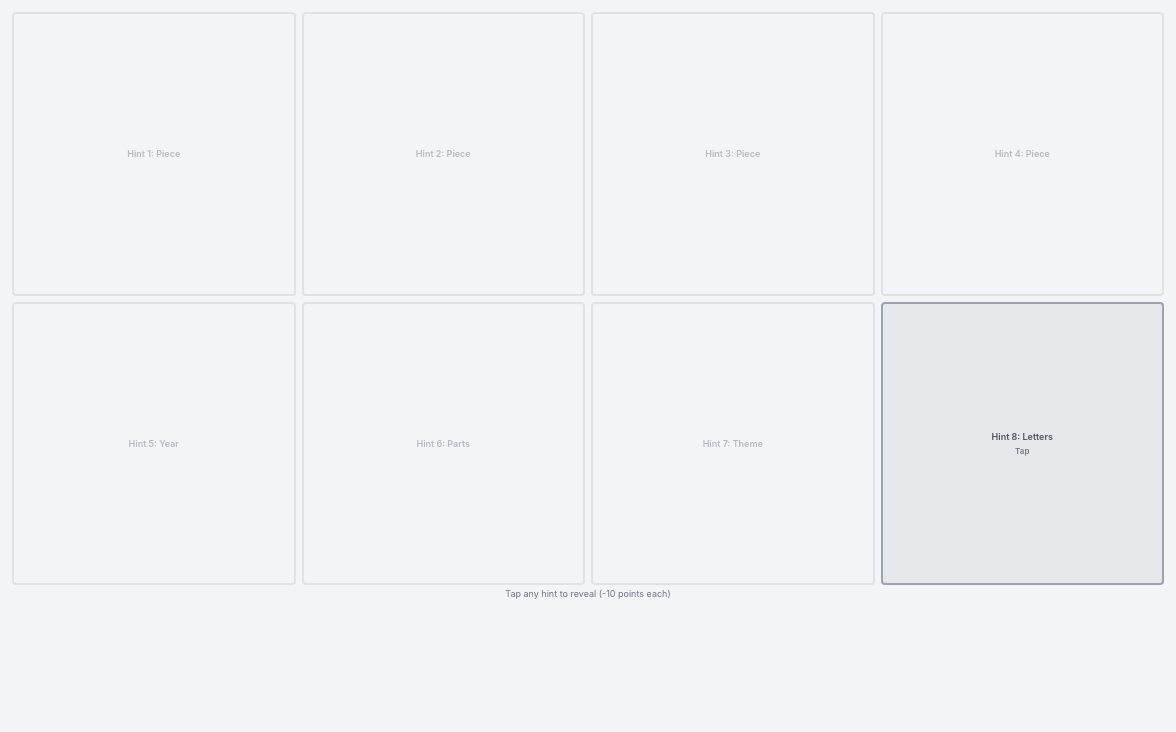
Test: Hints › displays letters when hint 8 is revealed
# Click hint 8 to reveal it
Click the button with aria-label "Hint 8: Letters: Click to reveal": (1022, 443) [880,302,1164,585]
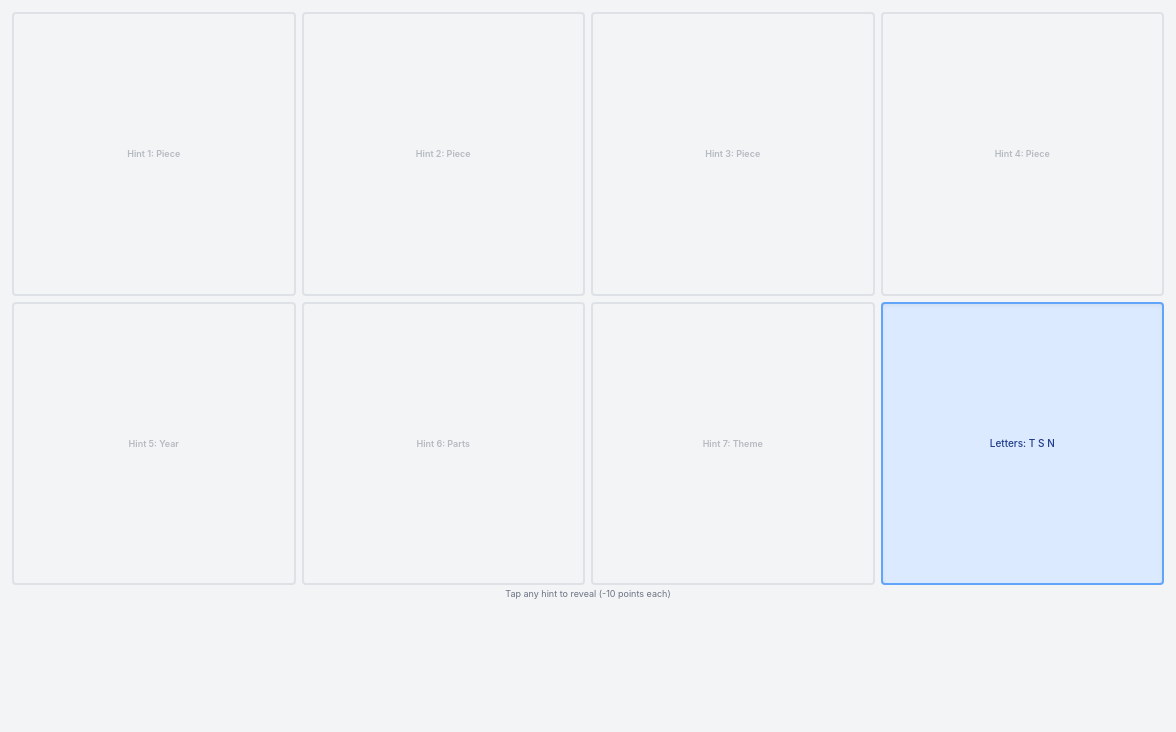
Now the text "Letters: T S N" is shown, box [990,437,1055,450]
